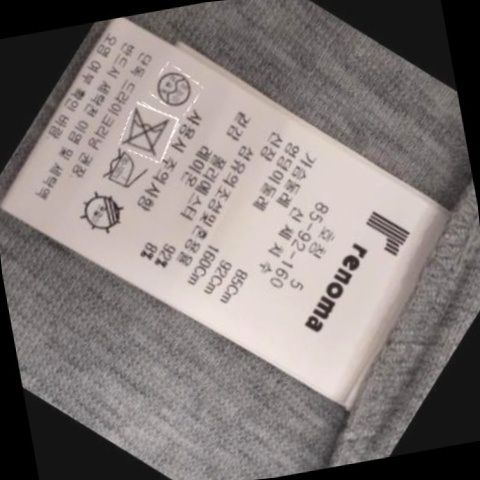DN_wash: (120, 106, 178, 157)
dry_clean_petrol_only: (153, 65, 198, 109)
iron_low: (98, 149, 149, 195)
line_dry_in_shade: (78, 189, 134, 237)
